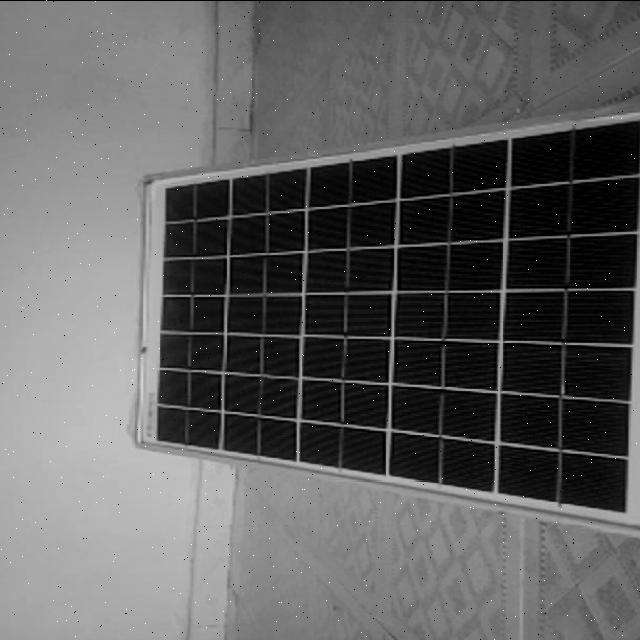Normal Solar Panel: (129, 105, 640, 539)
